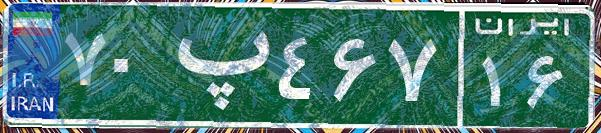0: (110, 28, 158, 105)
1: (475, 38, 525, 113)
4: (273, 28, 330, 110)
6: (330, 28, 385, 110), (525, 38, 570, 115)
7: (385, 28, 445, 110), (57, 26, 110, 107)
پ: (158, 15, 273, 115)
